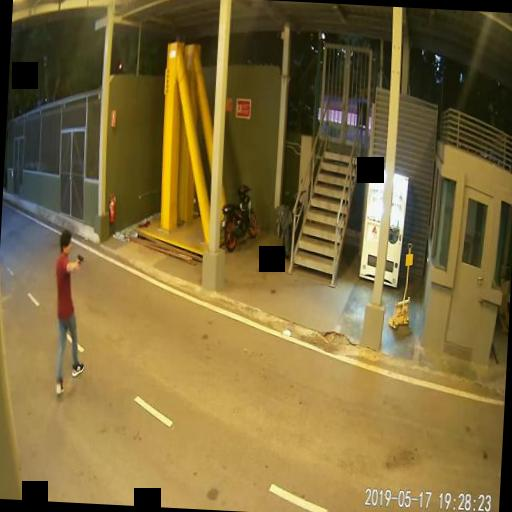Handgun: (75, 252, 83, 266)
